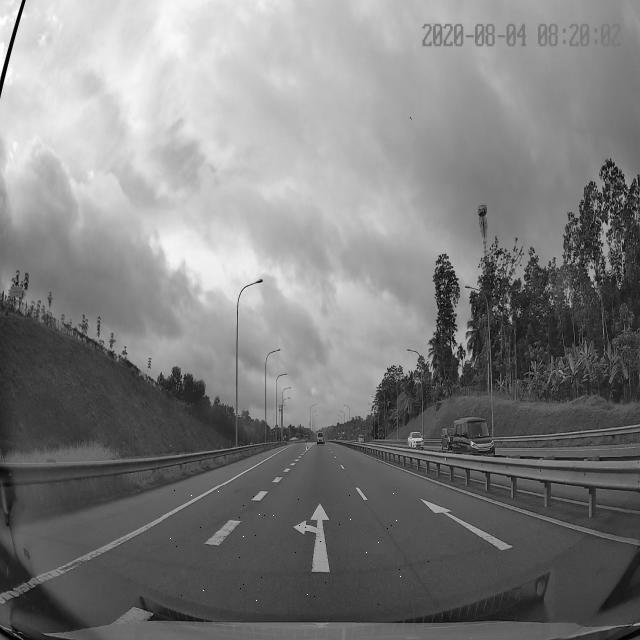forward_lft: (163, 485, 441, 608)
